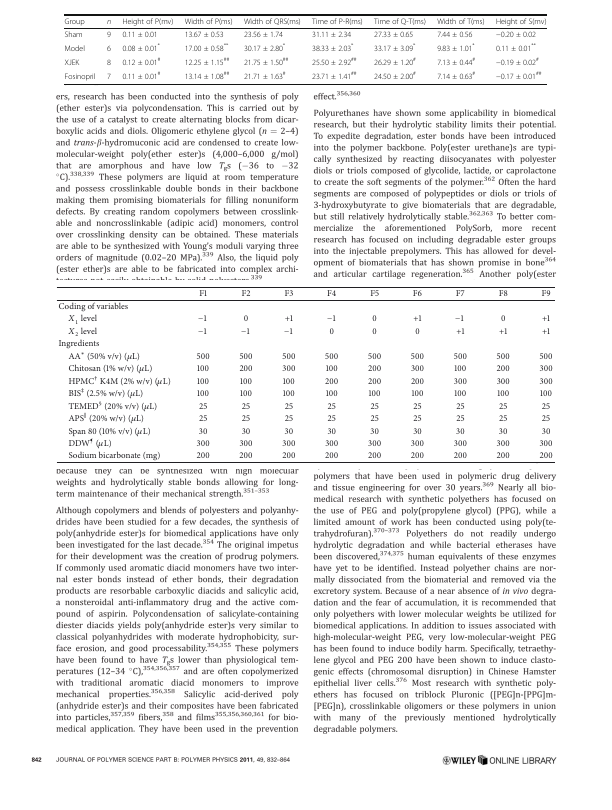borderless: (55, 285, 555, 462), (64, 13, 547, 84)
cell: (67, 372, 172, 389), (67, 398, 158, 414), (67, 361, 153, 376), (67, 423, 152, 438), (67, 410, 145, 426), (67, 385, 144, 401), (67, 348, 141, 364), (67, 451, 161, 462), (67, 435, 113, 451), (57, 302, 129, 312), (243, 17, 302, 26), (67, 323, 98, 340), (495, 70, 542, 81), (184, 56, 230, 67), (243, 56, 289, 67), (311, 56, 357, 67), (184, 70, 230, 81), (311, 70, 357, 81), (67, 311, 98, 327), (184, 42, 229, 53), (495, 56, 540, 67), (373, 17, 427, 26), (373, 56, 417, 67), (243, 70, 287, 81), (373, 70, 417, 81), (121, 17, 174, 26), (311, 17, 364, 26), (57, 339, 100, 350), (243, 42, 286, 53), (311, 42, 354, 53), (373, 42, 416, 53), (495, 17, 547, 26), (495, 42, 537, 53), (436, 17, 486, 26), (184, 17, 233, 26), (121, 42, 161, 53), (436, 42, 476, 53), (121, 56, 161, 67), (436, 56, 476, 67), (121, 70, 161, 81), (436, 70, 476, 81), (495, 30, 537, 39), (184, 30, 225, 39), (243, 30, 284, 39), (311, 30, 352, 39), (373, 30, 414, 39), (121, 30, 159, 39), (436, 30, 473, 39), (64, 72, 96, 81), (64, 44, 86, 53), (197, 323, 209, 339), (240, 323, 252, 339), (283, 323, 295, 339), (64, 17, 85, 26), (197, 311, 209, 326), (326, 311, 338, 326), (238, 364, 254, 375), (238, 451, 254, 462), (64, 30, 83, 39), (455, 311, 466, 326), (281, 364, 296, 375), (367, 364, 382, 375), (410, 364, 425, 375), (496, 364, 511, 375), (539, 364, 554, 375), (324, 376, 339, 387), (367, 376, 382, 387), (410, 376, 425, 387), (453, 376, 468, 387), (496, 376, 511, 387), (539, 376, 554, 387), (196, 451, 211, 462), (281, 451, 296, 462), (324, 451, 339, 462), (367, 451, 382, 462), (410, 451, 425, 462), (453, 451, 468, 462), (496, 451, 511, 462), (539, 451, 554, 462), (238, 352, 254, 362), (238, 439, 254, 449), (196, 364, 210, 375), (325, 364, 339, 375), (453, 364, 467, 375), (196, 376, 210, 387), (239, 376, 253, 387), (282, 376, 296, 387), (196, 389, 210, 400), (239, 389, 253, 400), (282, 389, 296, 400), (325, 389, 339, 400), (368, 389, 382, 400), (410, 389, 424, 400), (453, 389, 467, 400), (496, 389, 510, 400), (539, 389, 553, 400), (196, 352, 211, 362), (281, 352, 296, 362), (324, 352, 339, 362), (367, 352, 382, 362), (410, 352, 425, 362), (453, 352, 468, 362), (496, 352, 511, 362), (539, 352, 554, 362), (196, 439, 211, 449), (281, 439, 296, 449), (324, 439, 339, 449), (367, 439, 382, 449), (410, 439, 425, 449), (453, 439, 468, 449), (496, 439, 511, 449), (539, 439, 554, 449), (64, 58, 80, 67), (283, 289, 294, 300), (326, 289, 337, 300), (369, 289, 380, 300), (412, 289, 423, 300), (455, 289, 466, 300), (498, 289, 509, 300), (541, 289, 552, 300), (412, 314, 423, 325), (369, 401, 380, 412), (412, 401, 423, 412), (455, 401, 466, 412), (326, 426, 337, 437), (369, 426, 380, 437), (412, 426, 423, 437), (455, 426, 466, 437), (198, 289, 208, 300), (241, 289, 251, 300), (284, 314, 294, 325), (541, 314, 551, 325), (198, 401, 208, 412), (241, 401, 251, 412), (284, 401, 294, 412), (327, 401, 337, 412), (498, 401, 508, 412), (541, 401, 551, 412), (369, 414, 380, 424), (412, 414, 423, 424), (455, 414, 466, 424), (198, 426, 208, 437), (241, 426, 251, 437), (284, 426, 294, 437), (498, 426, 508, 437), (541, 426, 551, 437), (455, 327, 465, 337), (498, 327, 508, 337), (541, 327, 551, 337), (198, 414, 208, 424), (241, 414, 251, 424), (284, 414, 294, 424), (327, 414, 337, 424), (498, 414, 508, 424), (541, 414, 551, 424), (371, 314, 378, 325), (371, 327, 378, 337), (414, 327, 421, 337), (243, 314, 249, 325), (500, 314, 506, 325), (329, 327, 335, 337), (106, 30, 112, 39), (106, 44, 112, 53), (106, 58, 112, 67), (106, 72, 112, 81), (106, 19, 112, 25)
